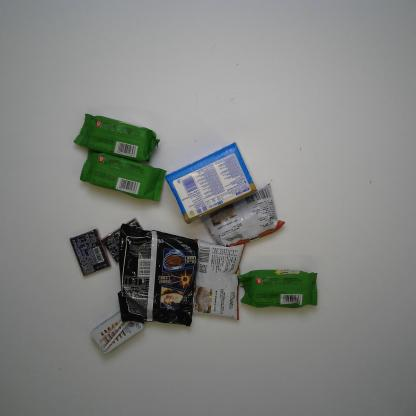Dessert: (73, 112, 160, 165), (80, 148, 167, 201), (237, 267, 318, 310)
Gum: (100, 217, 144, 263), (69, 228, 111, 276)
Instant Noodles: (116, 223, 198, 327)
Milk: (91, 311, 144, 355)
Seasoner: (197, 183, 285, 247), (192, 238, 247, 321)
Tissue: (165, 140, 257, 226)
